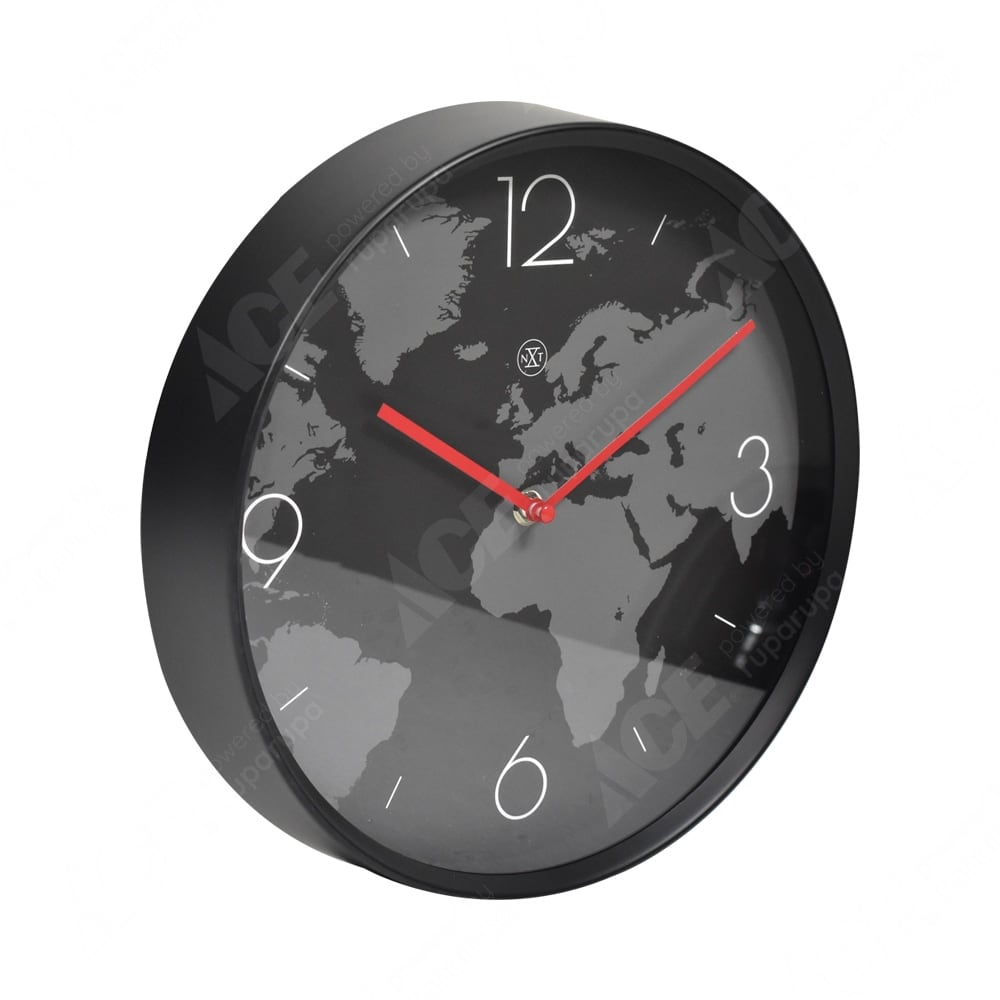jam dinding: (114, 92, 877, 929)
